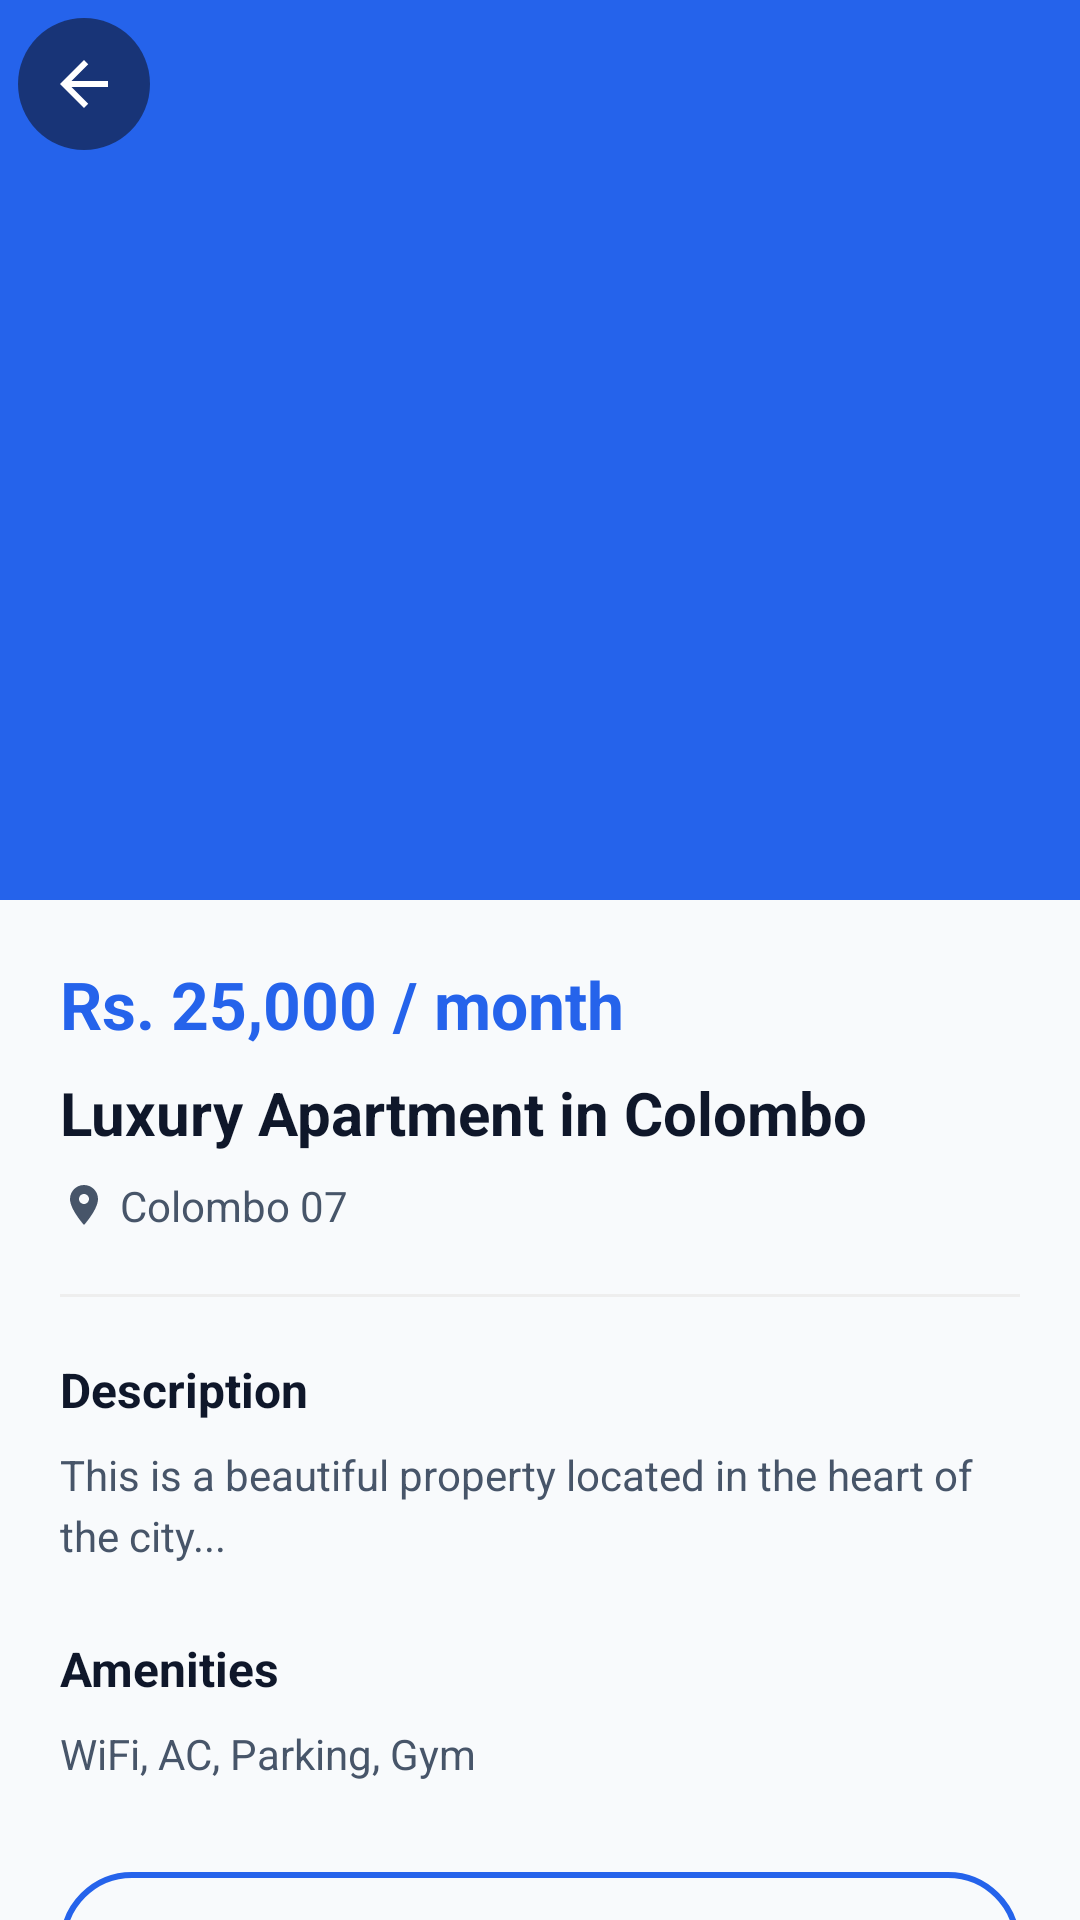

Screen size 1080px x 1920px. Icon name, then its box in pixels as (x1, y1, x2, y2):
location: (70, 1185, 98, 1225)
